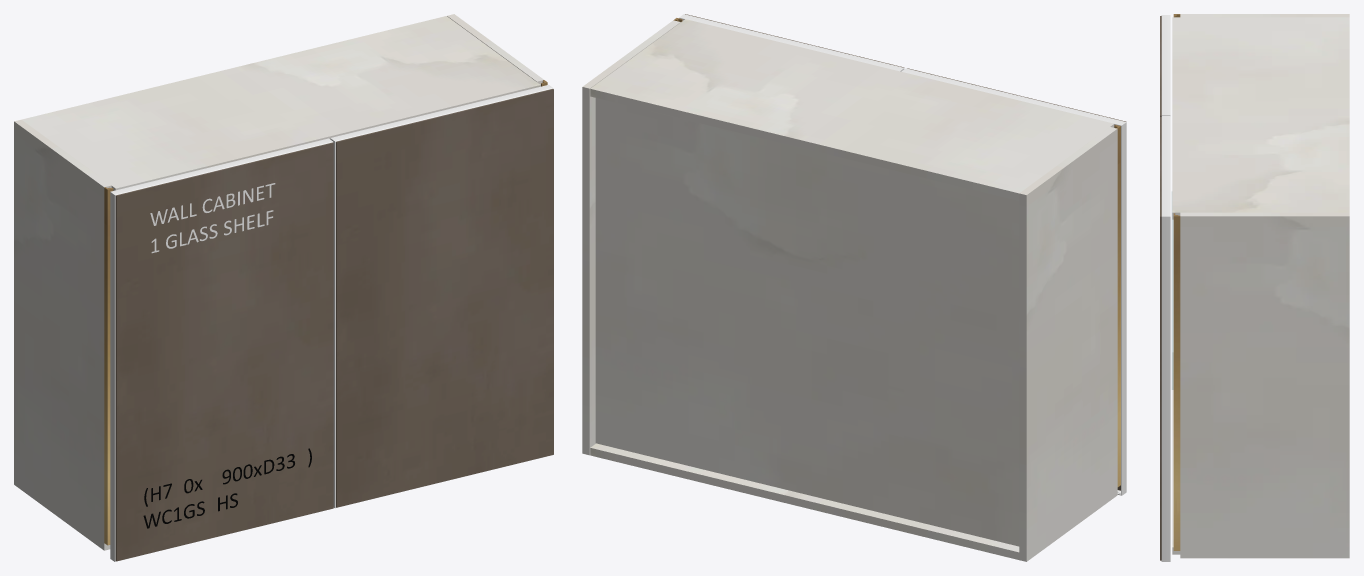
3 views of the same model, side by side, from view 1: azimuth 30°, elevation 25°; view 2: azimuth 150°, elevation 25°; view 3: azimuth 270°, elevation 25° (orthographic). The views are drawn at different scales.
Size of what is drawn, in the model's own units: 0.9 by 0.7185 by 0.366.
7 materials, 3 textured.
